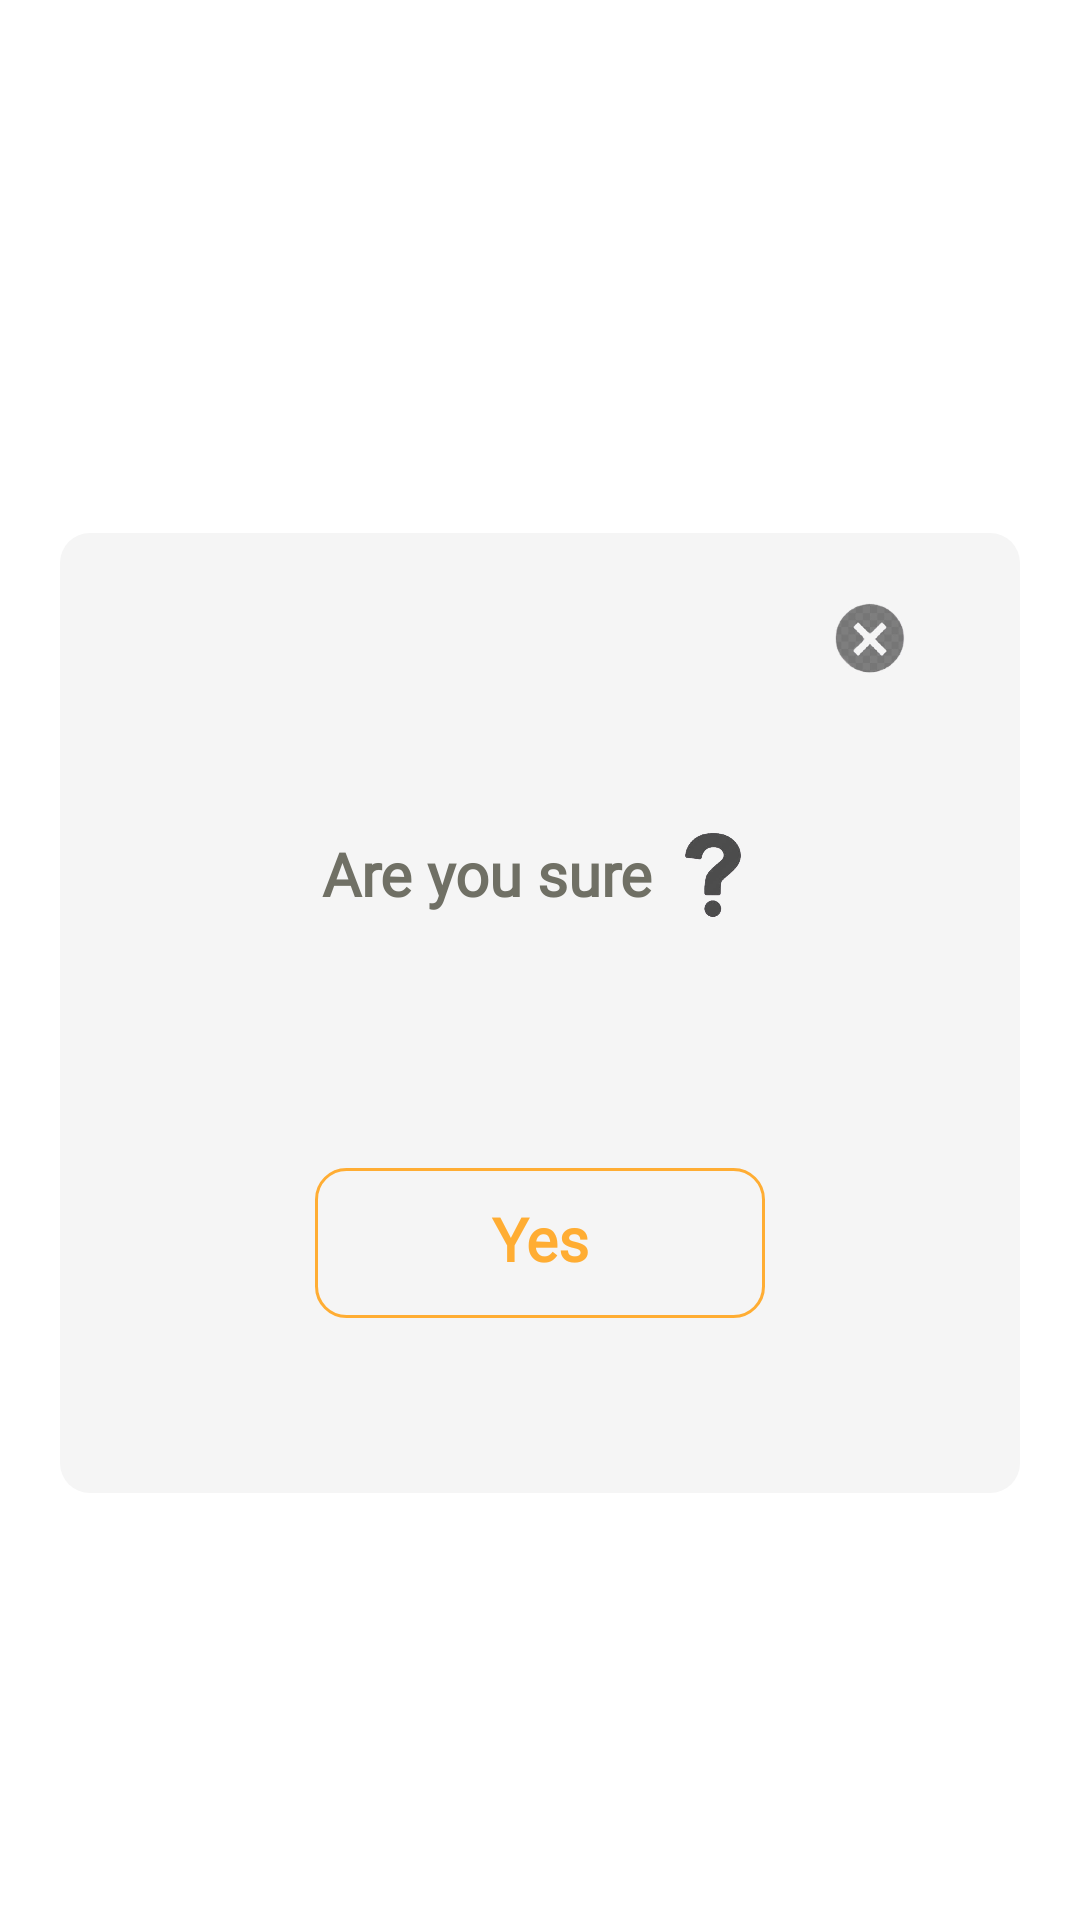

Named icons in this screenshot (1080*1920) and their bounding boxes, rect(x1, y1, x2, y2):
close: rect(836, 604, 904, 673)
question mark: rect(685, 833, 741, 917)
